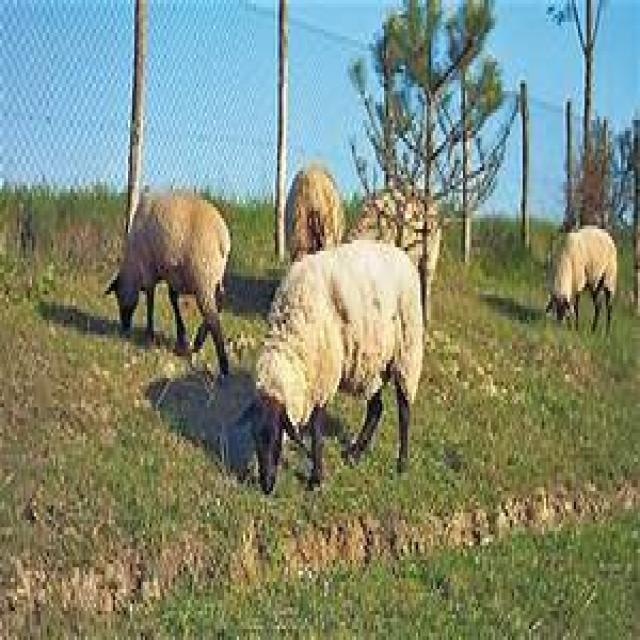sheep: (234, 242, 424, 498), (106, 198, 230, 374), (547, 227, 619, 329)
